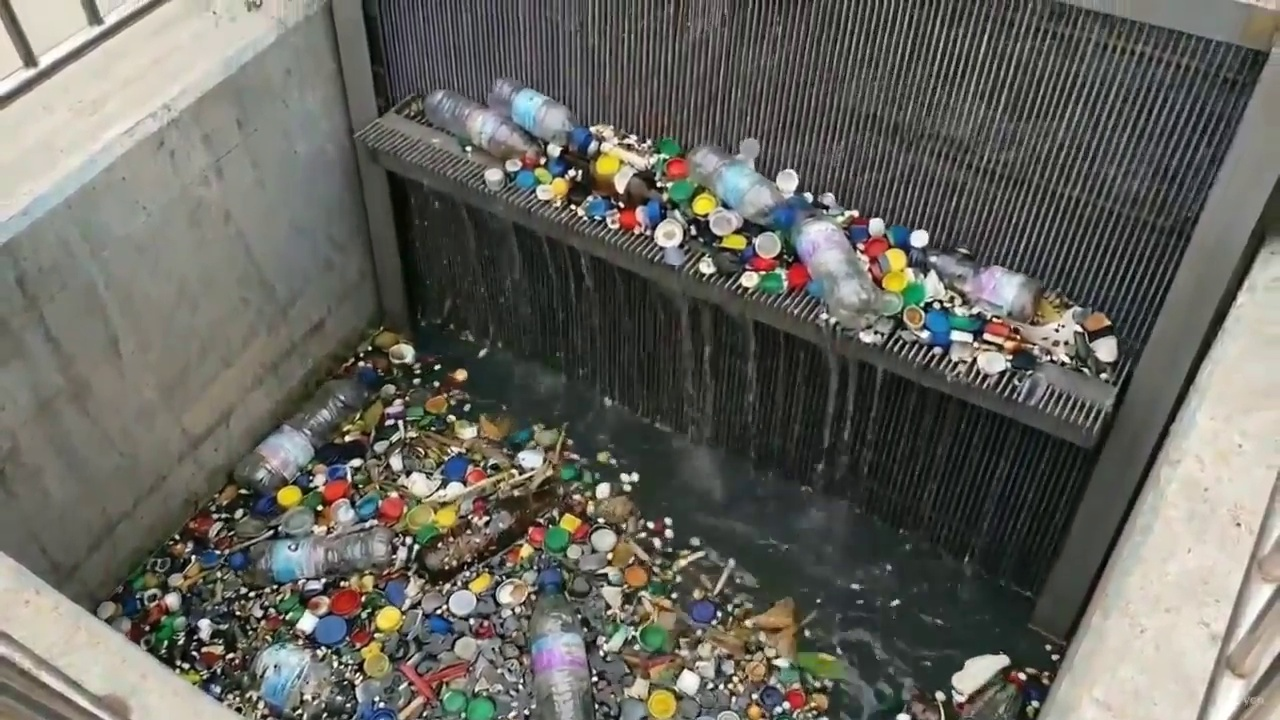debris: (108, 320, 1054, 714), (423, 71, 1122, 400)
